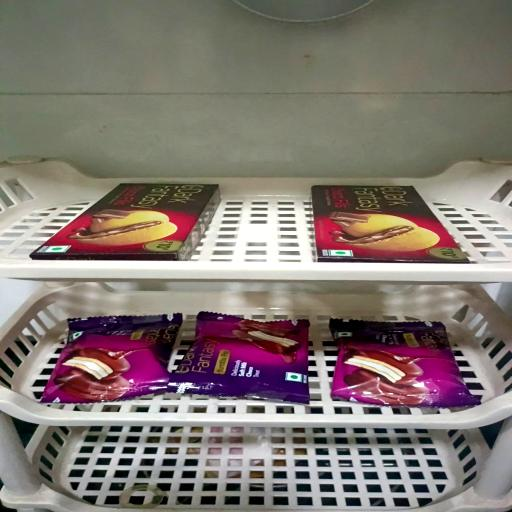Choco Fills: (30, 181, 220, 261), (311, 184, 469, 264)
Choco Pie: (329, 318, 480, 408), (40, 313, 182, 404), (168, 312, 308, 404)
